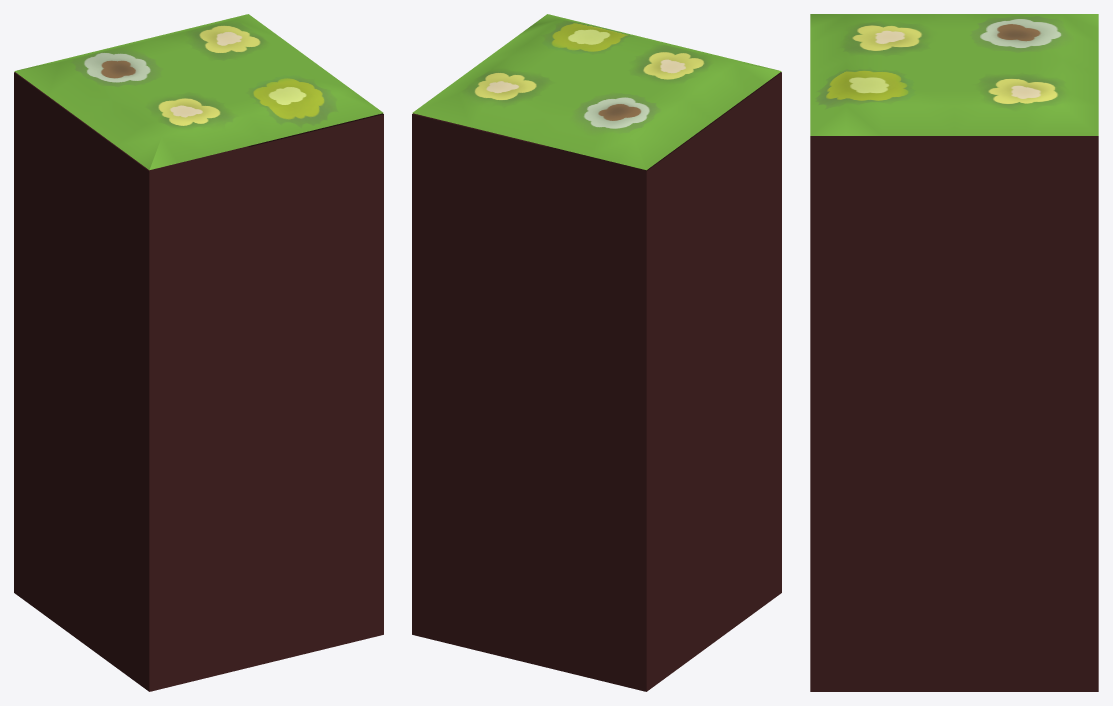
The model's file is field_2x2.obj.
3 renders of one model, left to right at view 1: azimuth 30°, elevation 25°; view 2: azimuth 150°, elevation 25°; view 3: azimuth 270°, elevation 25°, orthographic. The views are drawn at different scales.
Parts seen in each view (by area): view 1: polySurface8; view 2: polySurface8; view 3: polySurface8.
Part boxes in pixels (x1,y1,x2,y2): polySurface8: (14,14,383,691); polySurface8: (412,14,781,691); polySurface8: (810,14,1098,691).
Size of the model in its own units: 400 by 873 by 400.
